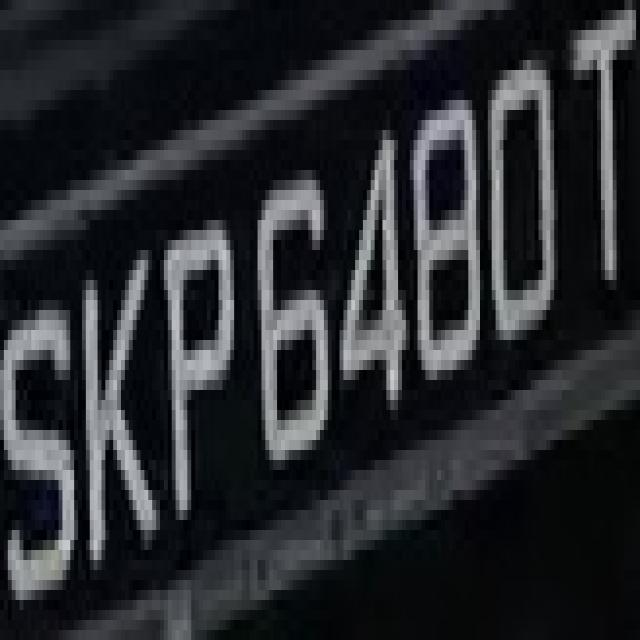0: (484, 50, 566, 370)
4: (320, 120, 414, 470)
6: (250, 160, 336, 480)
8: (410, 70, 488, 390)
K: (59, 220, 152, 580)
P: (160, 200, 238, 550)
S: (4, 250, 78, 630)
T: (562, 0, 640, 320)
